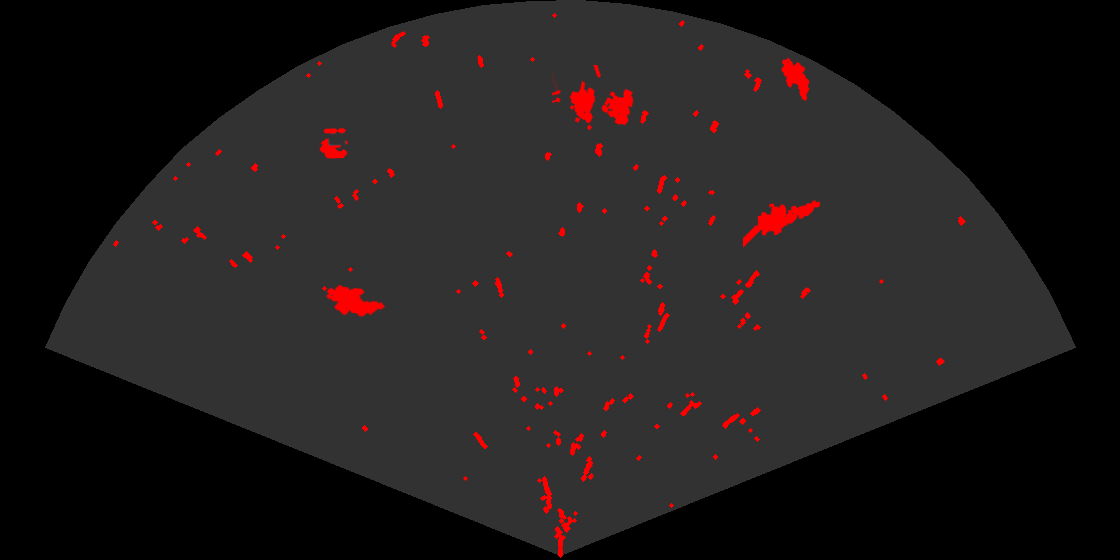AUV: (324, 283, 387, 318), (780, 56, 811, 103)
ball: (318, 127, 350, 160)
cage: (552, 65, 635, 132)
frogman: (743, 199, 822, 249)
